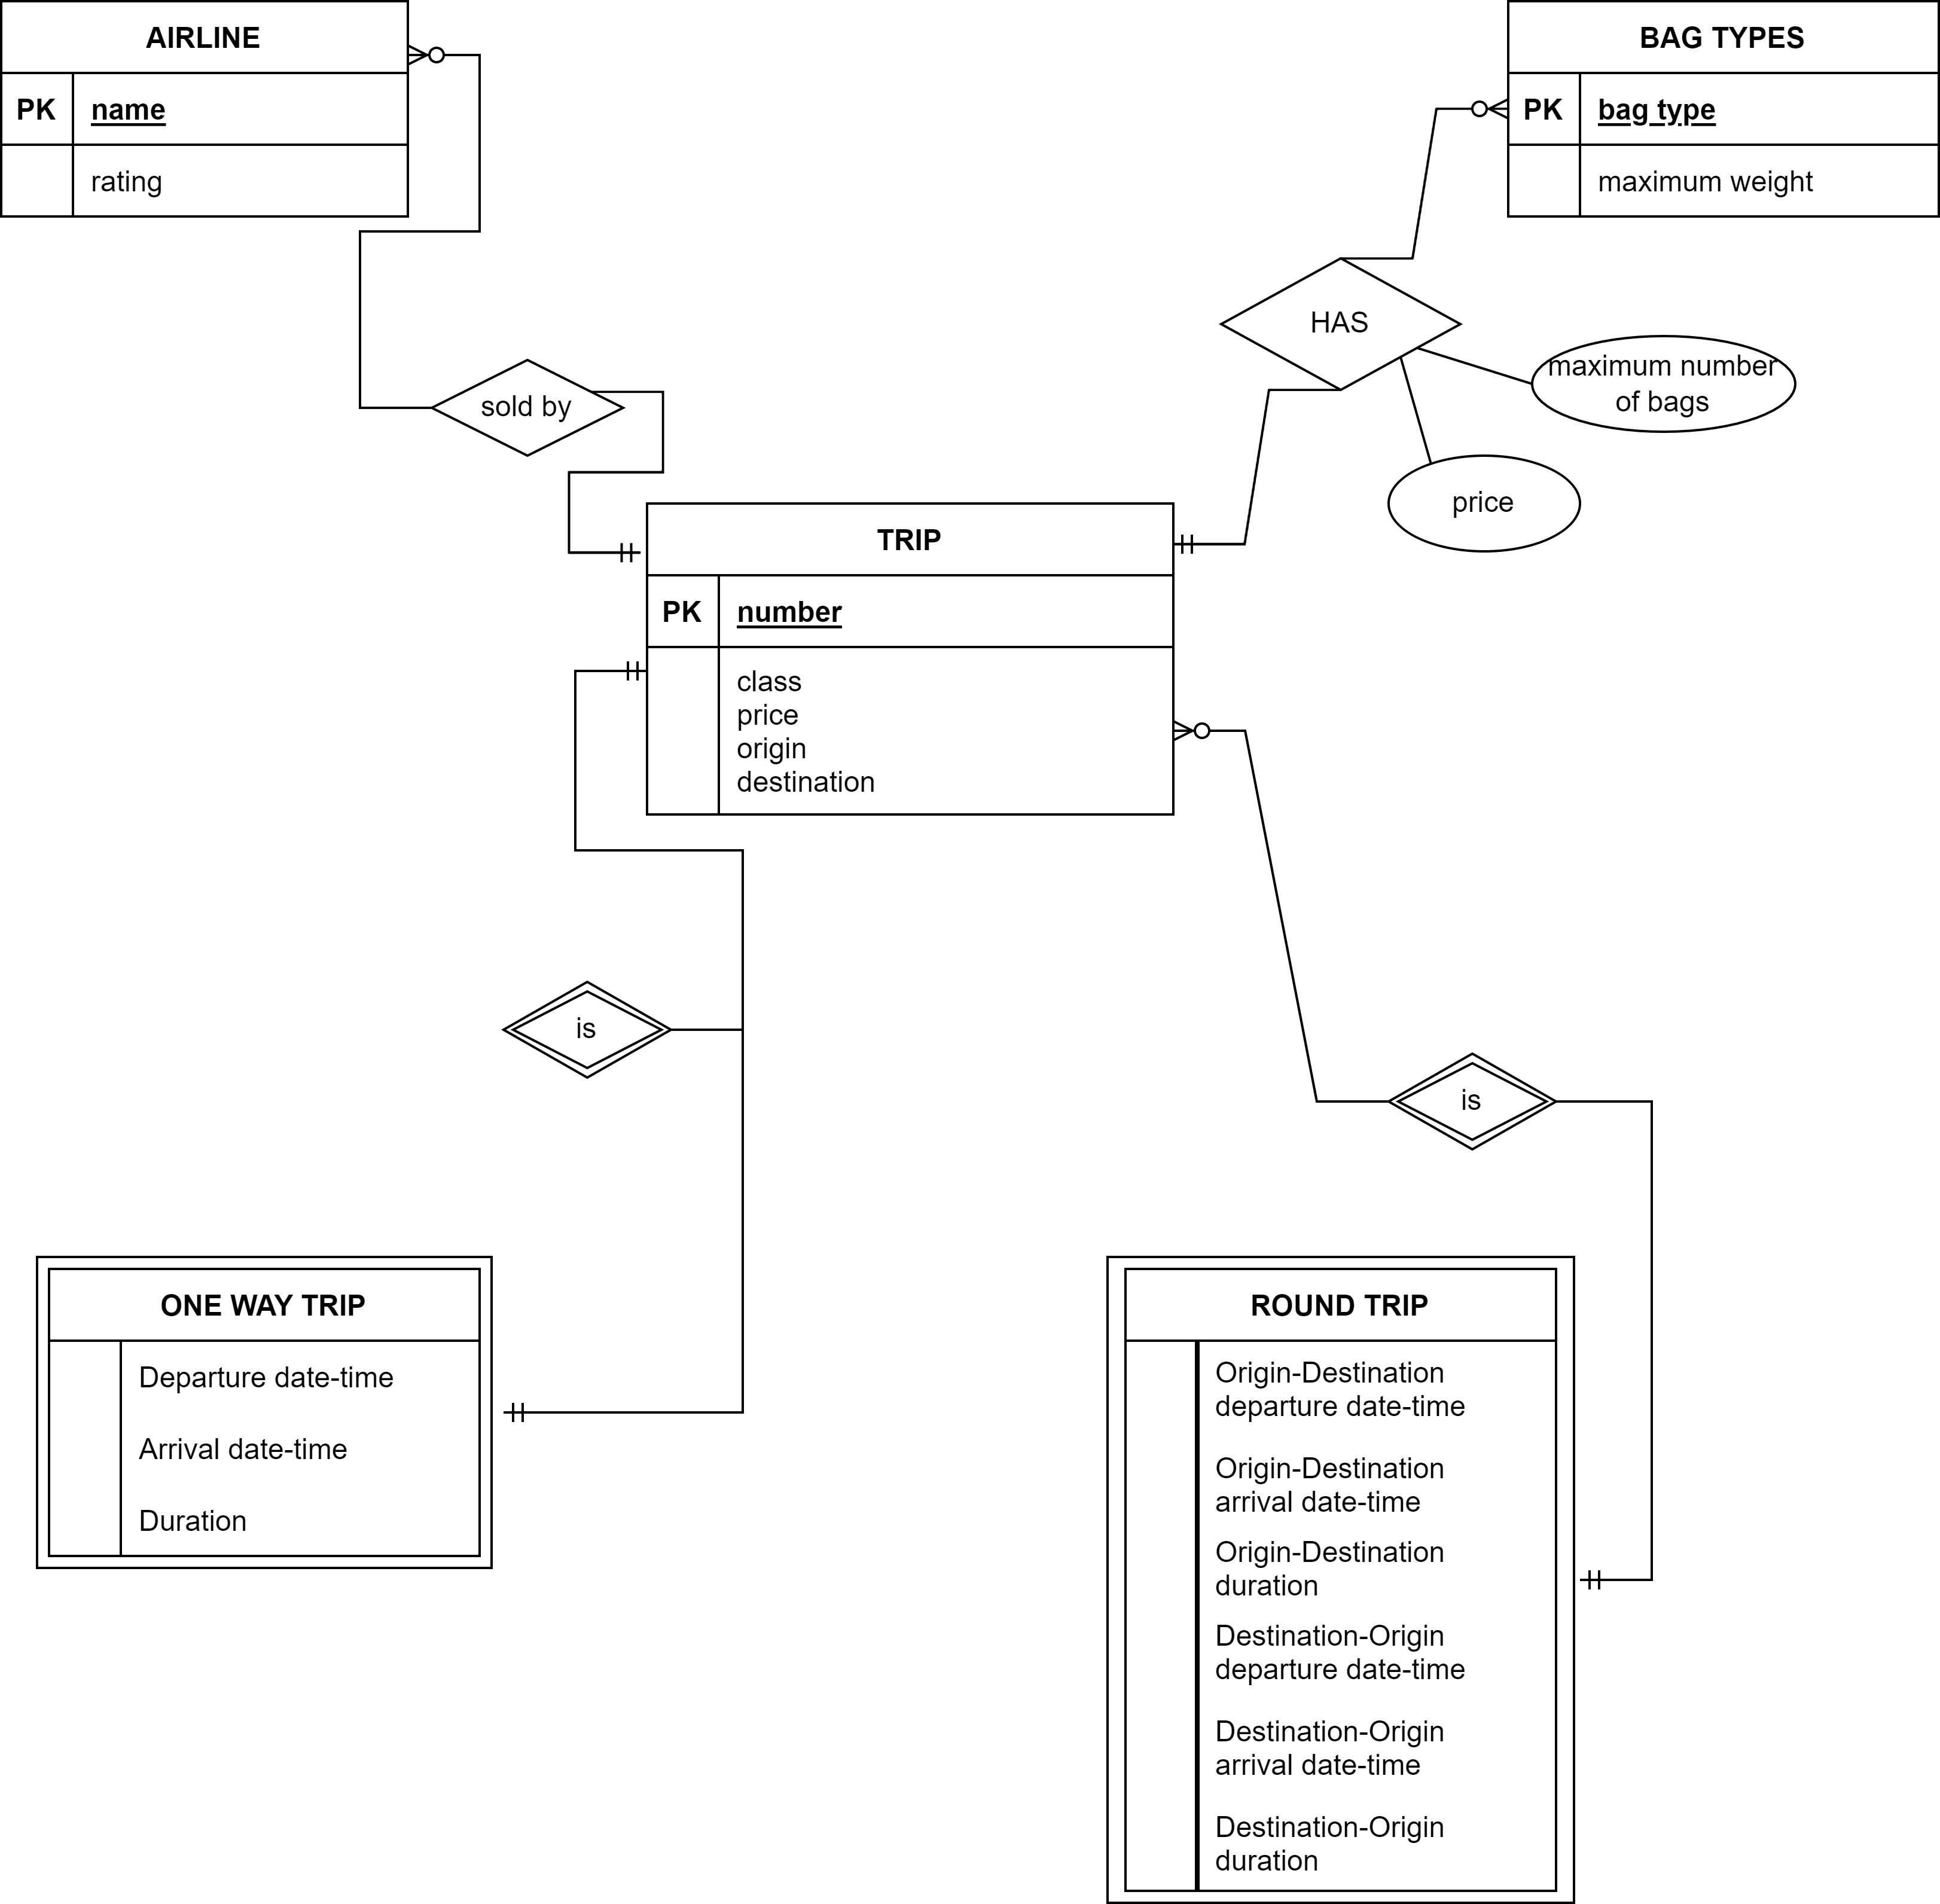entity: (645, 506, 1173, 818), (1511, 2, 1940, 220), (3, 2, 408, 218)
ident_rel: (1386, 1051, 1555, 1151), (500, 982, 671, 1079)
many: (1435, 96, 1511, 124), (410, 40, 481, 70), (1175, 720, 1246, 745)
one: (497, 1397, 594, 1425), (565, 535, 641, 570), (1572, 1571, 1652, 1594), (575, 659, 648, 683), (1173, 532, 1243, 554)
rel: (1220, 256, 1464, 389), (438, 359, 624, 457)
rel_attr: (1537, 338, 1795, 432), (1389, 459, 1577, 554)
weak_entity: (1103, 1259, 1576, 1904), (30, 1254, 500, 1564)
